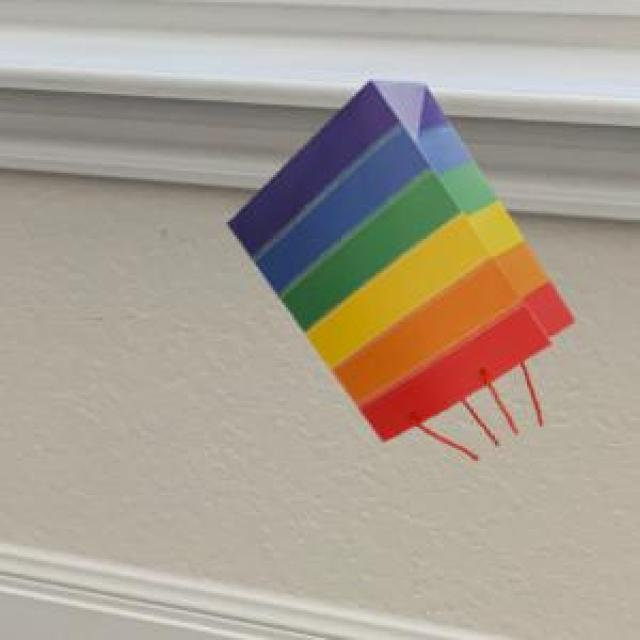paper: (224, 77, 570, 437)
